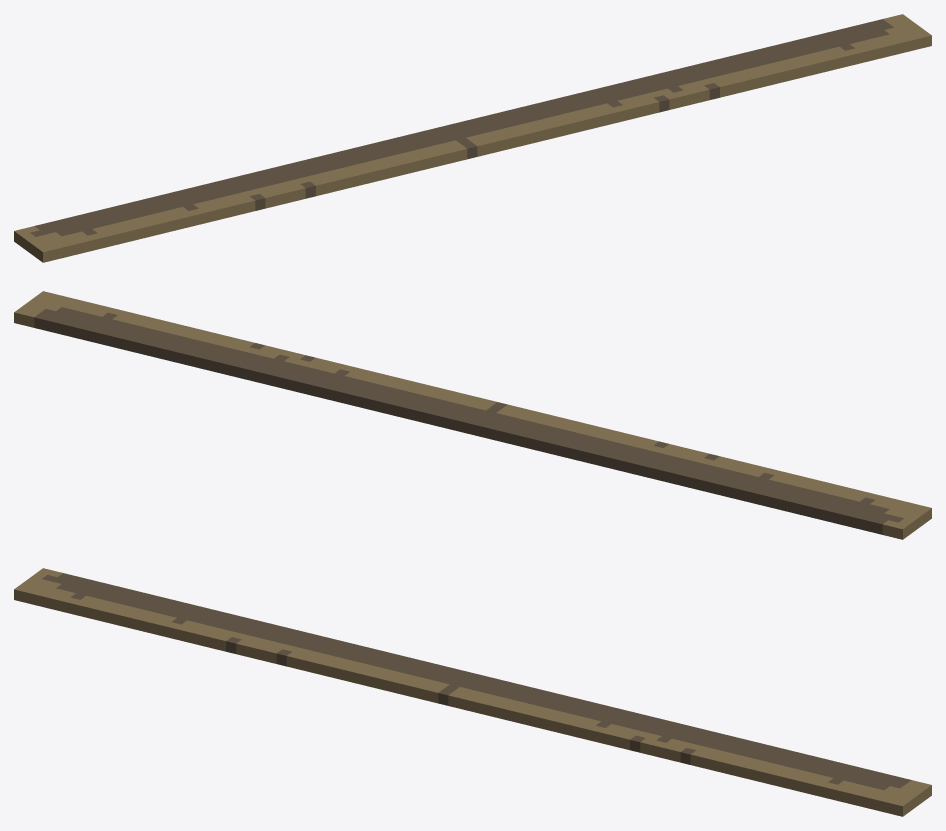
Rendered from LargeBuilding01-4.obj.
The picture shows the model from 3 angles, top to bottom: view 1: azimuth 30°, elevation 25°; view 2: azimuth 150°, elevation 25°; view 3: azimuth 330°, elevation 25°; orthographic projection.
Bounding box in the file's own units: 8.8 × 0.1 × 0.5.
1 material, 1 textured.
